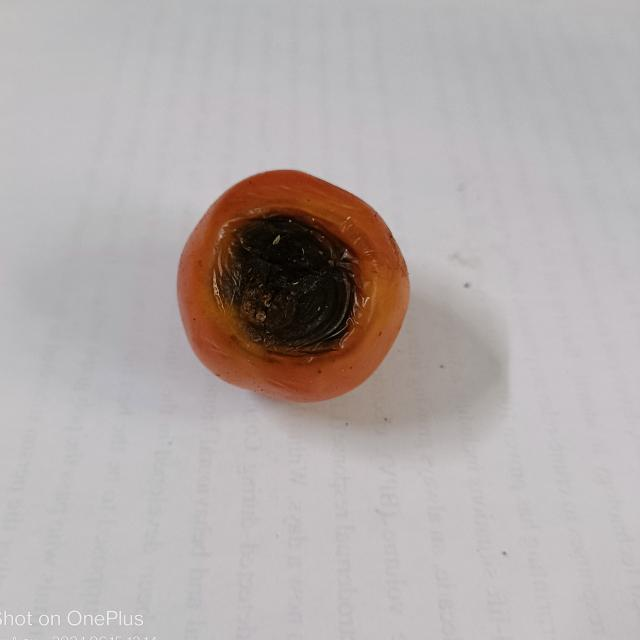Anthrocnose: (210, 208, 352, 364)
